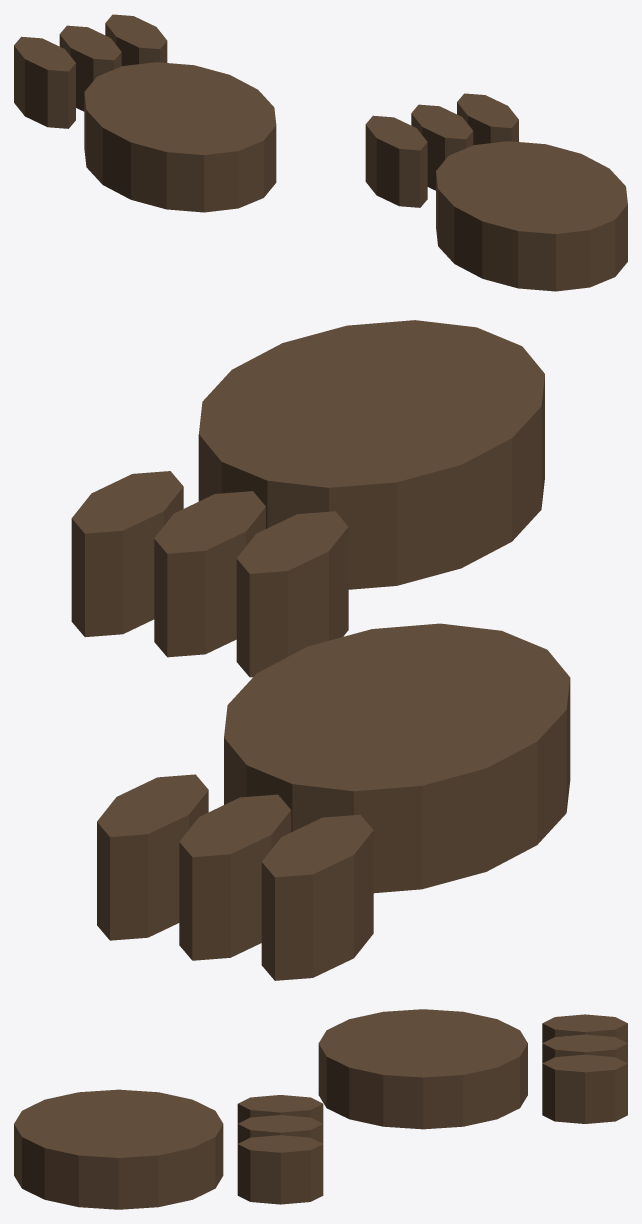
Rendered from Hare_Print.fbx.
3 views of the same model, one above another, from view 1: azimuth 30°, elevation 25°; view 2: azimuth 150°, elevation 25°; view 3: azimuth 270°, elevation 25° (orthographic). The views are drawn at different scales.
Visible parts, largest first — view 1: Hare_Print; view 2: Hare_Print; view 3: Hare_Print.
Boxes of the visible parts, x1,y1,x2,y2 form: Hare_Print: [14, 14, 627, 291]; Hare_Print: [71, 320, 570, 980]; Hare_Print: [14, 1009, 627, 1209].
Size of the model in its own units: 0.037 by 0.006 by 0.0645.
